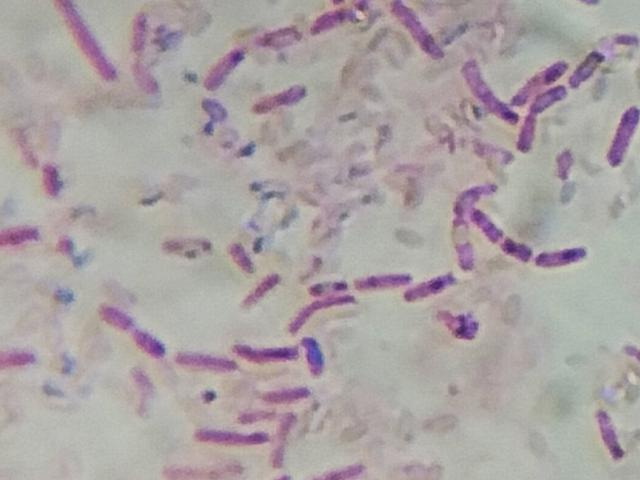E. coli: (56, 0, 111, 81), (459, 65, 513, 129), (293, 297, 360, 335), (395, 3, 445, 53), (41, 152, 80, 214), (592, 403, 628, 467), (606, 101, 640, 168), (133, 16, 161, 95), (513, 62, 566, 101), (401, 268, 450, 309), (276, 406, 306, 472), (536, 243, 594, 277), (189, 422, 263, 448), (312, 5, 369, 37), (232, 339, 305, 363), (245, 271, 283, 317), (205, 45, 241, 90), (258, 78, 307, 110), (569, 50, 608, 89), (265, 22, 309, 56), (353, 262, 408, 289), (0, 339, 41, 375), (453, 172, 493, 207), (179, 345, 227, 374), (453, 216, 477, 272), (515, 109, 541, 158), (0, 222, 35, 257), (99, 300, 135, 330), (131, 330, 168, 359), (259, 379, 312, 399), (533, 89, 567, 118), (324, 460, 370, 480), (501, 235, 530, 264), (476, 207, 502, 239), (308, 273, 342, 297), (231, 239, 254, 272)
